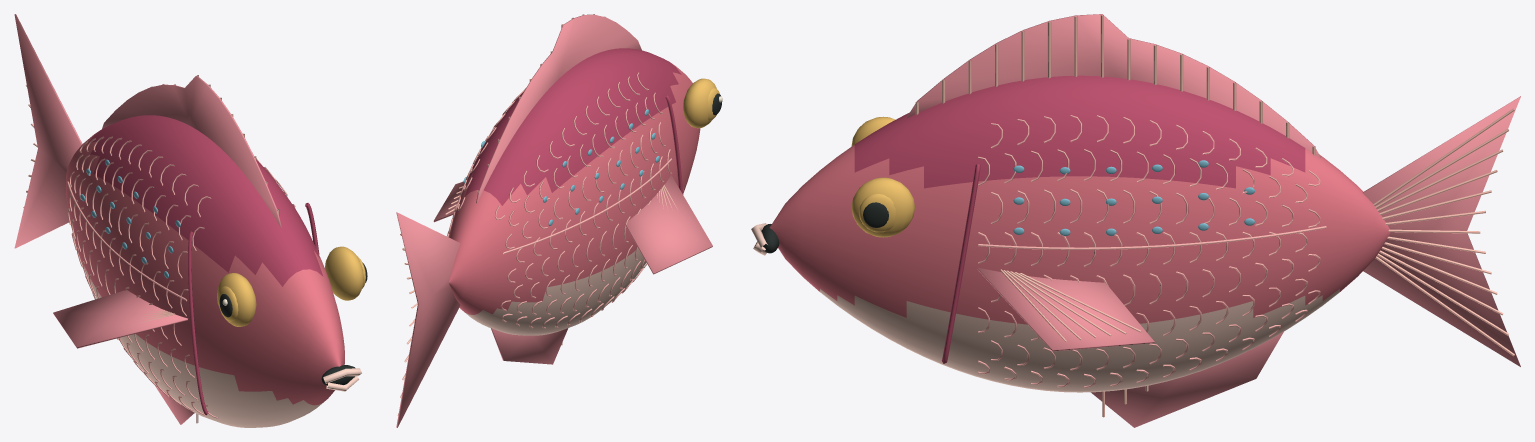
Rendered from BanquetTai.fbx.
3 views of the same model, side by side, from view 1: azimuth 30°, elevation 25°; view 2: azimuth 150°, elevation 25°; view 3: azimuth 270°, elevation 25° (orthographic). The views are drawn at different scales.
Visible parts, largest first — view 1: Sculpted body mesh, Tail mesh, FinLeft mesh; view 2: Sculpted body mesh, Tail mesh, FinLeft mesh, FinRight mesh; view 3: Sculpted body mesh, Tail mesh, FinRight mesh.
Boxes of the visible parts, x1,y1,x2,y2 form: Sculpted body mesh: (66,75,367,427); Tail mesh: (14,14,82,248); FinLeft mesh: (53,289,187,348); Sculpted body mesh: (446,14,722,364); Tail mesh: (396,212,460,427); FinLeft mesh: (625,175,712,274); FinRight mesh: (433,181,464,222); Sculpted body mesh: (751,14,1390,427); Tail mesh: (1363,96,1520,366); FinRight mesh: (977,267,1154,351).
Size of the model in its own units: 55.1 by 67.34 by 113.
